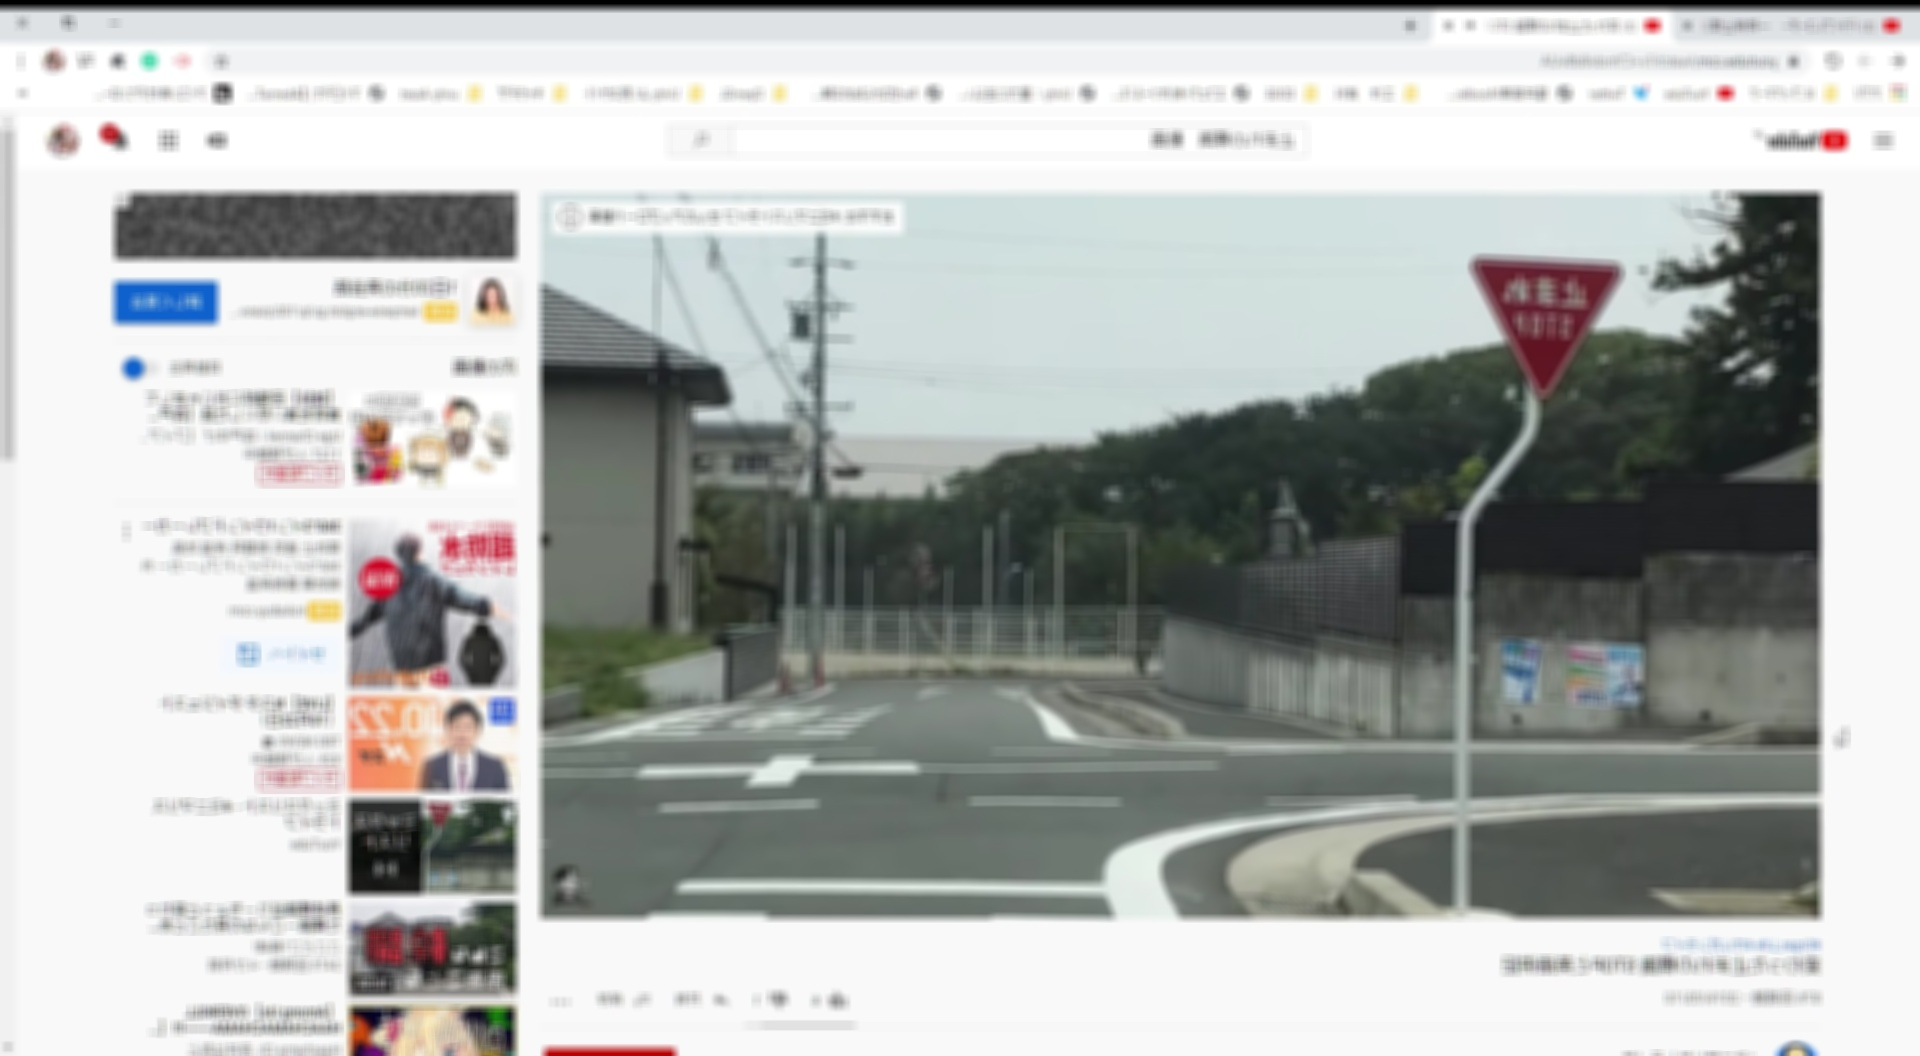Regulatory_sign_triangle: (1472, 234, 1618, 393)
